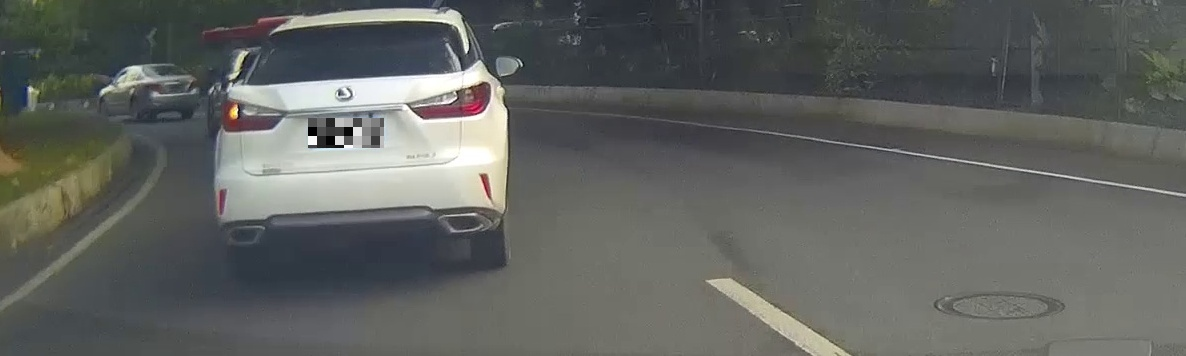L_light: (221, 97, 288, 132), (147, 83, 163, 92)
R_light: (406, 81, 491, 120), (188, 80, 198, 89)
T_light: (335, 22, 374, 30), (157, 66, 169, 69)
day-left: (214, 8, 506, 279)
day-no: (141, 64, 199, 121)
plate_1: (308, 118, 384, 148)
